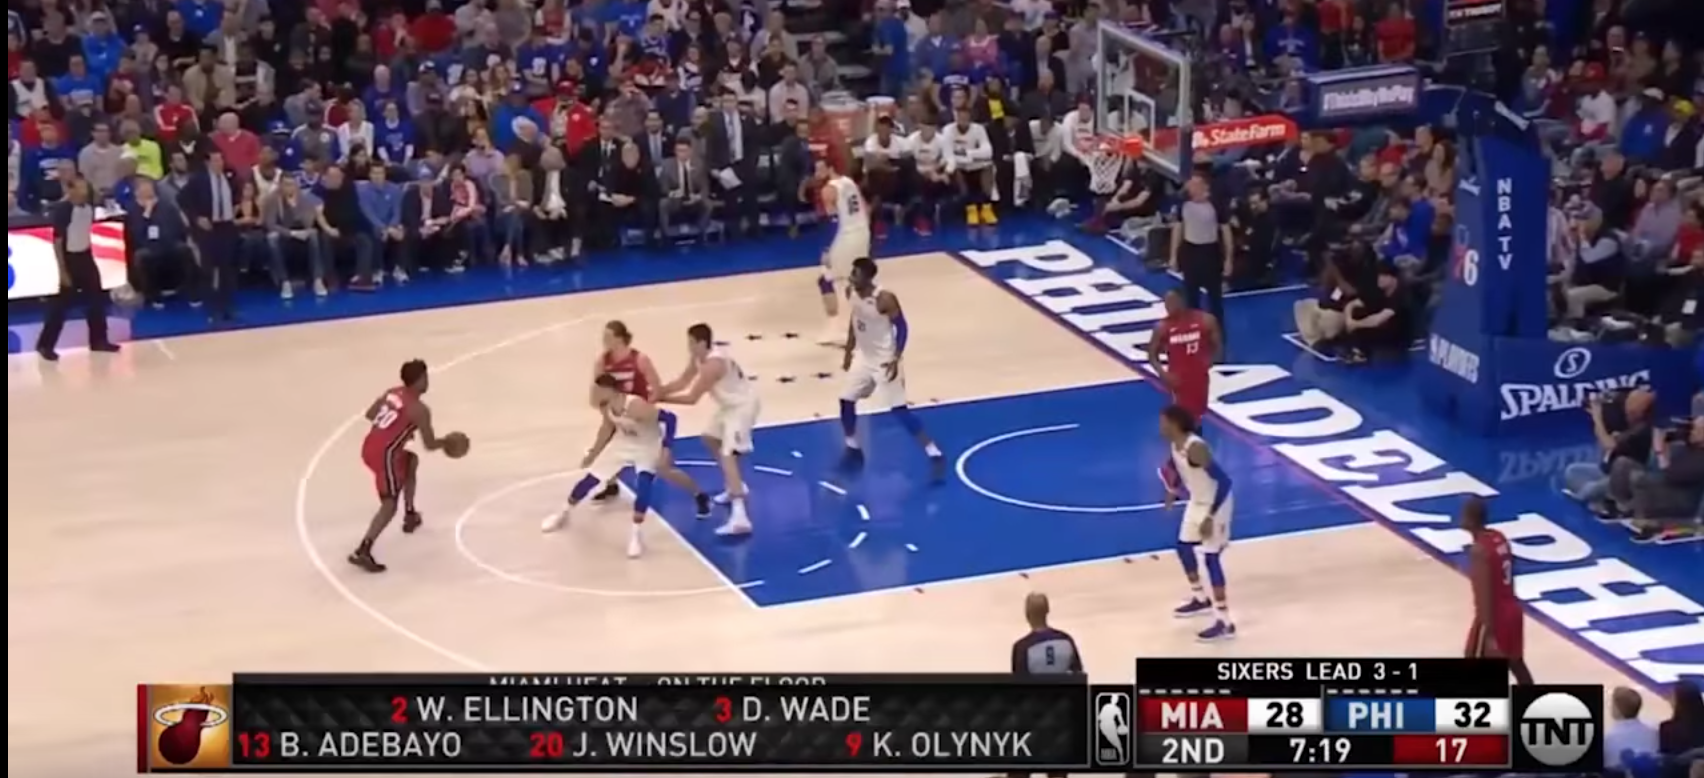basketball: (444, 430, 476, 461)
basketball player: (826, 256, 960, 490), (334, 354, 441, 575), (683, 301, 762, 561), (1421, 490, 1533, 657), (578, 378, 675, 563), (1156, 407, 1232, 635), (1126, 288, 1222, 416), (795, 161, 885, 259), (574, 315, 662, 381)
